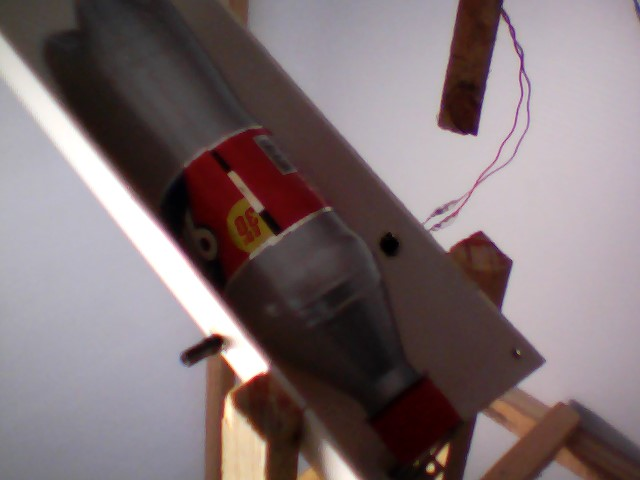plastico: (36, 1, 470, 469)
